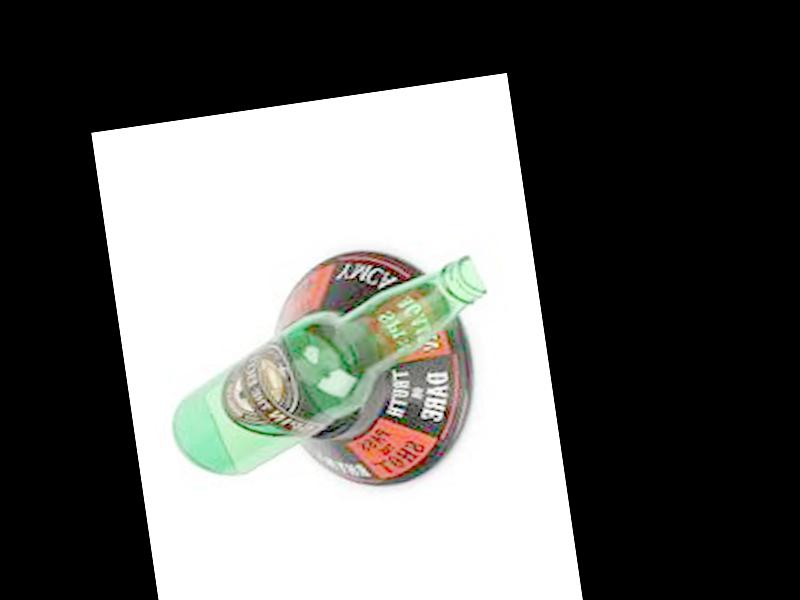Beer: (155, 255, 508, 485)
